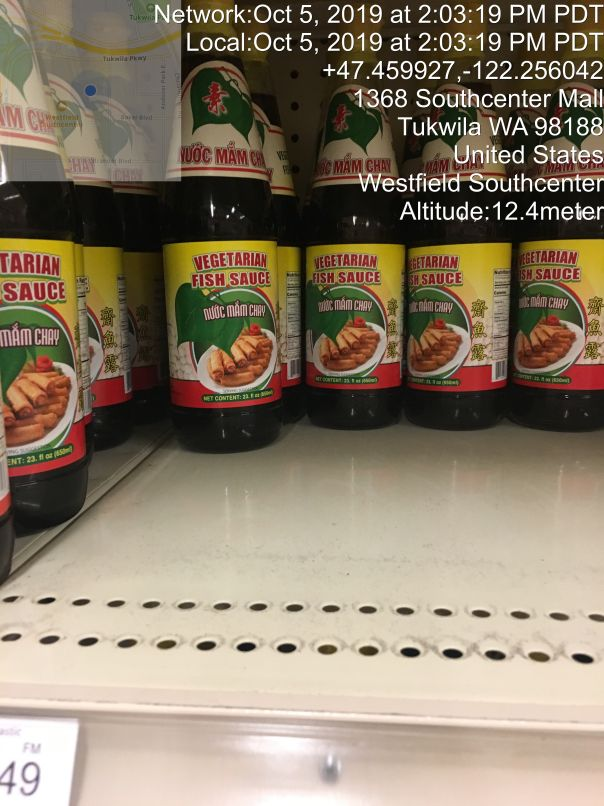Location: (347, 82, 604, 198)
Time: (144, 1, 604, 55)
Vegetarian Fish Sauce: (156, 6, 295, 460), (1, 1, 96, 538), (408, 1, 513, 433), (307, 4, 410, 433), (516, 1, 604, 436)
